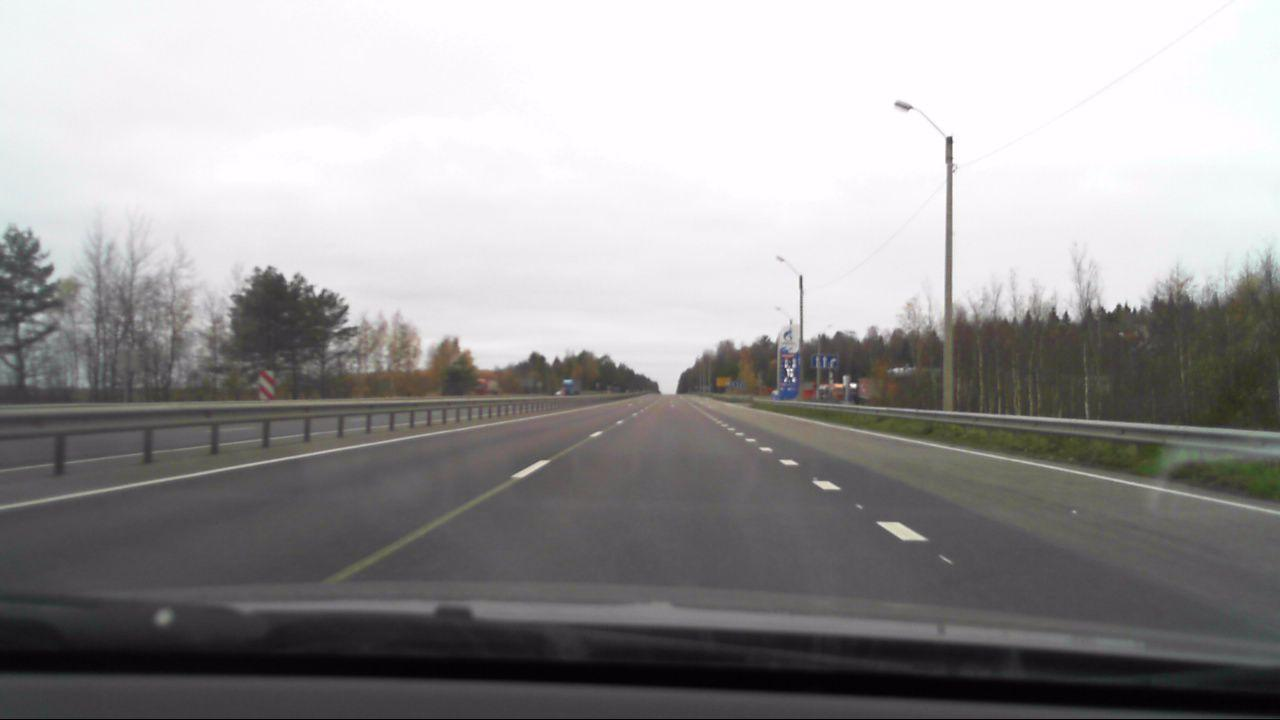5_15_1: (811, 352, 840, 369)
8_22_1: (258, 365, 278, 400)
